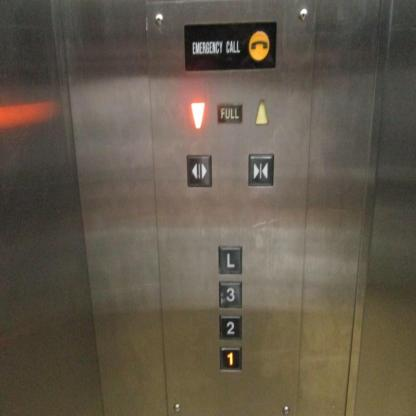1: (218, 344, 242, 371)
2: (219, 313, 244, 342)
3: (217, 279, 243, 309)
L: (217, 243, 243, 276)
call: (248, 29, 272, 62)
close: (246, 153, 274, 187)
open: (185, 152, 213, 189)
